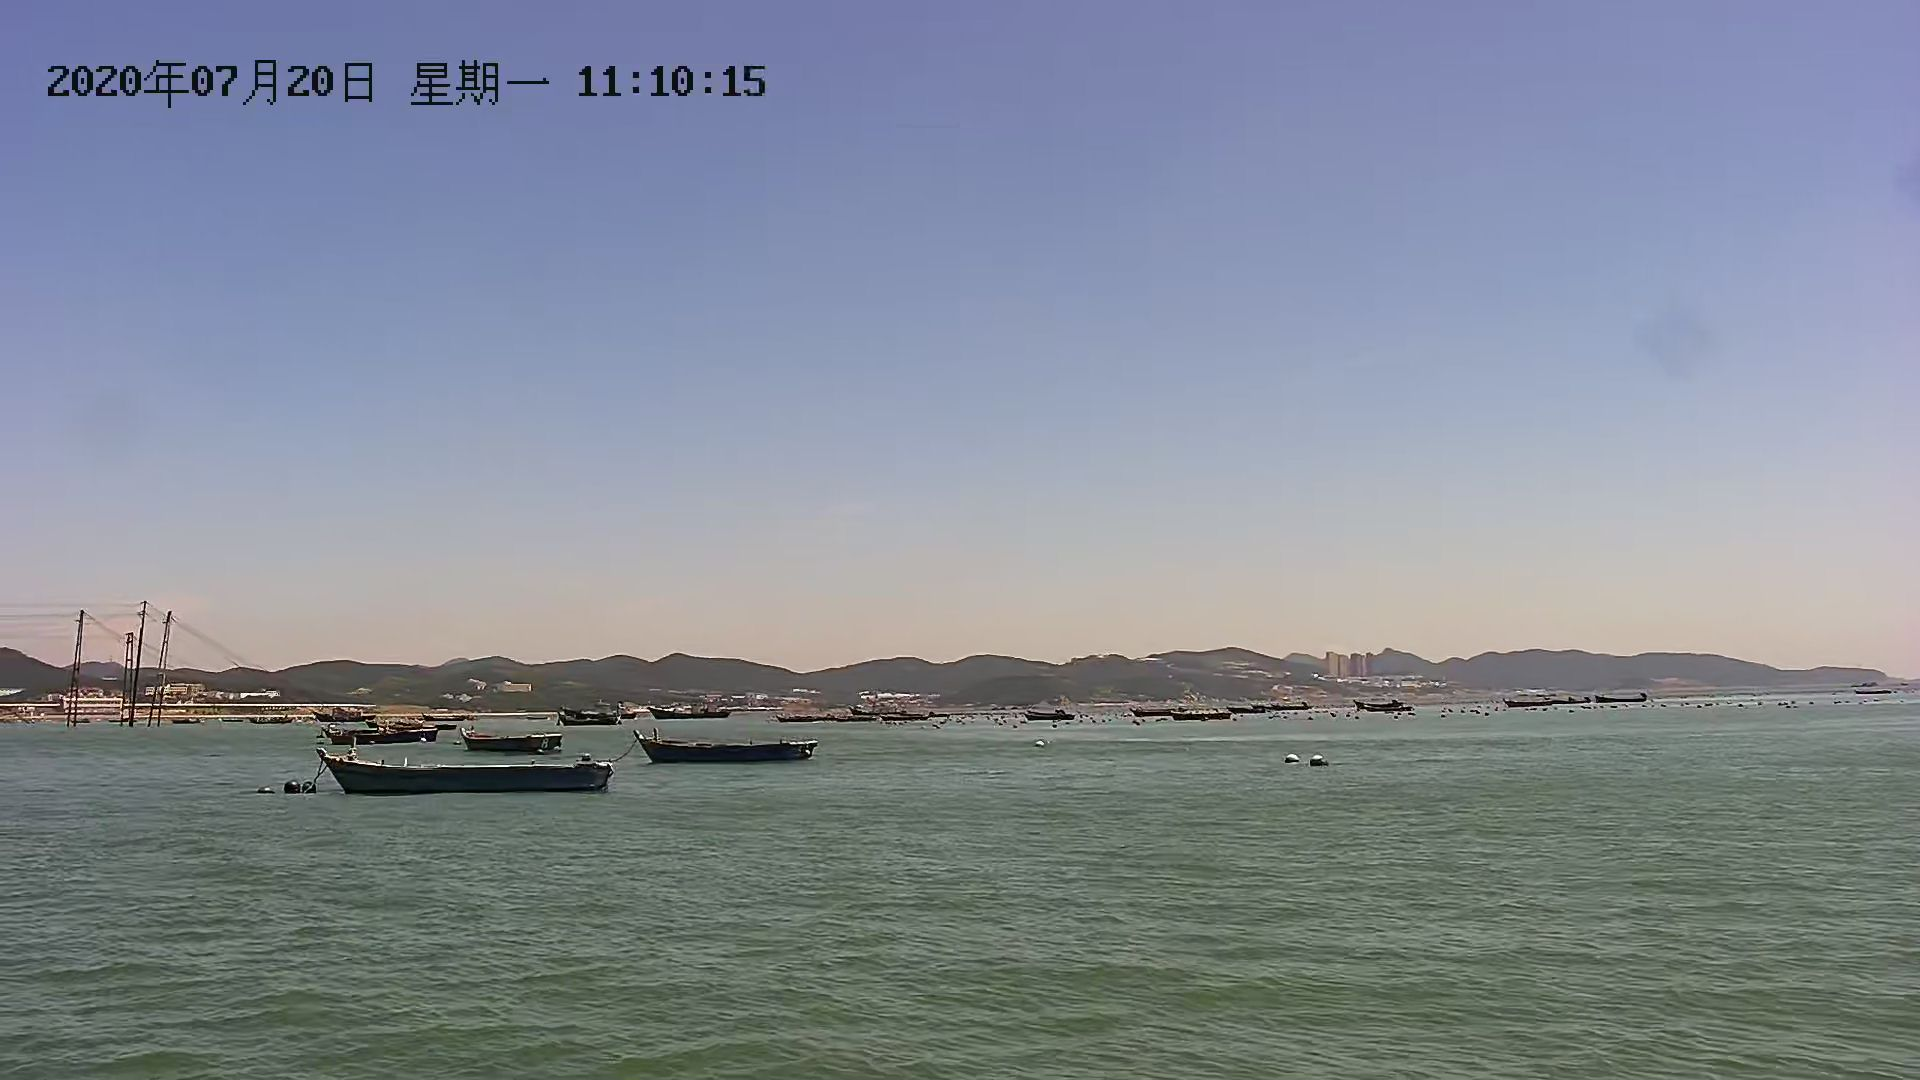ball: (1280, 740, 1305, 767), (277, 774, 301, 796), (1305, 754, 1337, 769)
boat: (309, 744, 615, 799), (633, 727, 819, 771), (459, 717, 559, 756), (323, 721, 435, 748)
mast: (63, 603, 86, 727), (121, 593, 140, 727), (153, 607, 173, 729)
